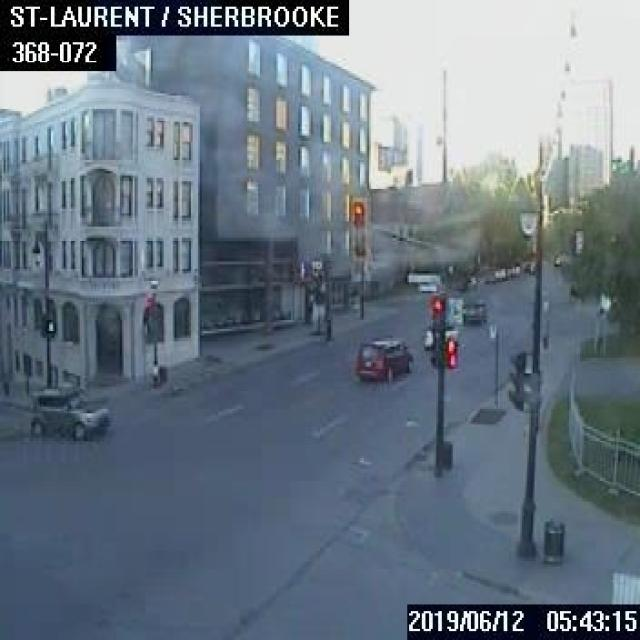vehicle: (28, 384, 106, 434), (354, 333, 414, 378), (422, 322, 459, 348), (460, 297, 486, 321)
